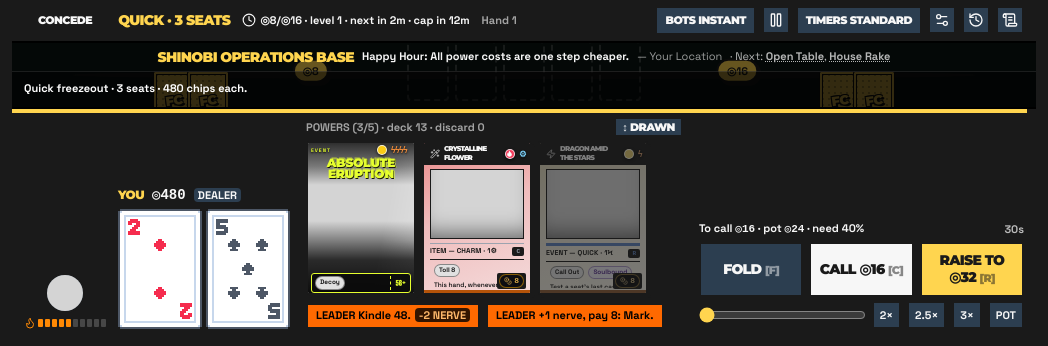
Test: raise slider (A6) › steps by one chip, so the exact maximum is reachable
This screenshot has width=1048, height=346.
Set the slider named "Raise amount (pot limit)" to "56" at (858, 315), box x1=699 y1=307 x2=866 y2=323
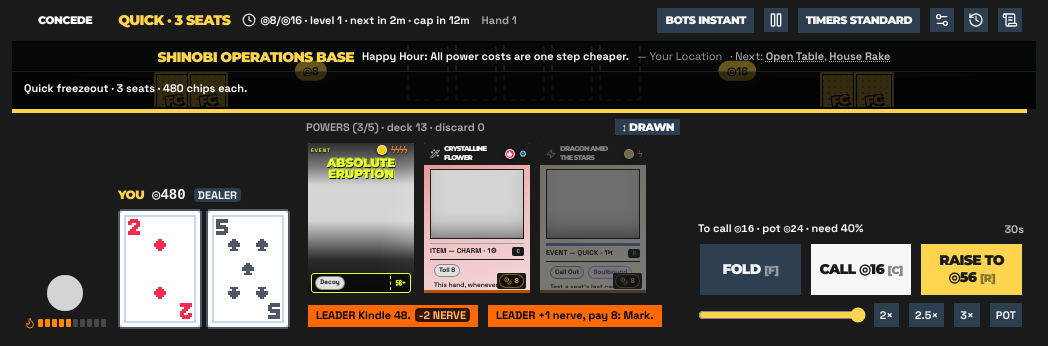
Expected: the button "RAISE TO ◎56 [R]" is shown, x1=919 y1=242 x2=1024 y2=297
